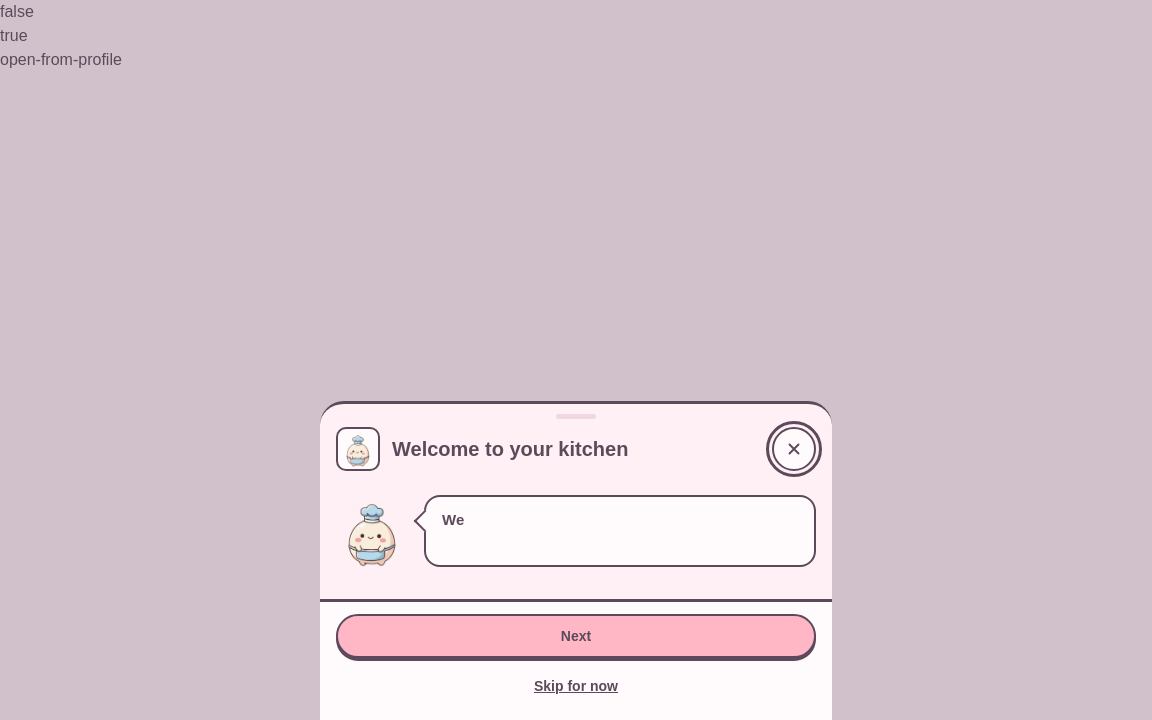
Scenario: the Bubbly dialogue before the chips (#915) › tap to continue steps through the lines, then shows the chips
Expected: the dialog with test id "staples-step" is shown, [320,401,832,719]
Click the button "Next" at (576, 636), box [336,614,816,658]
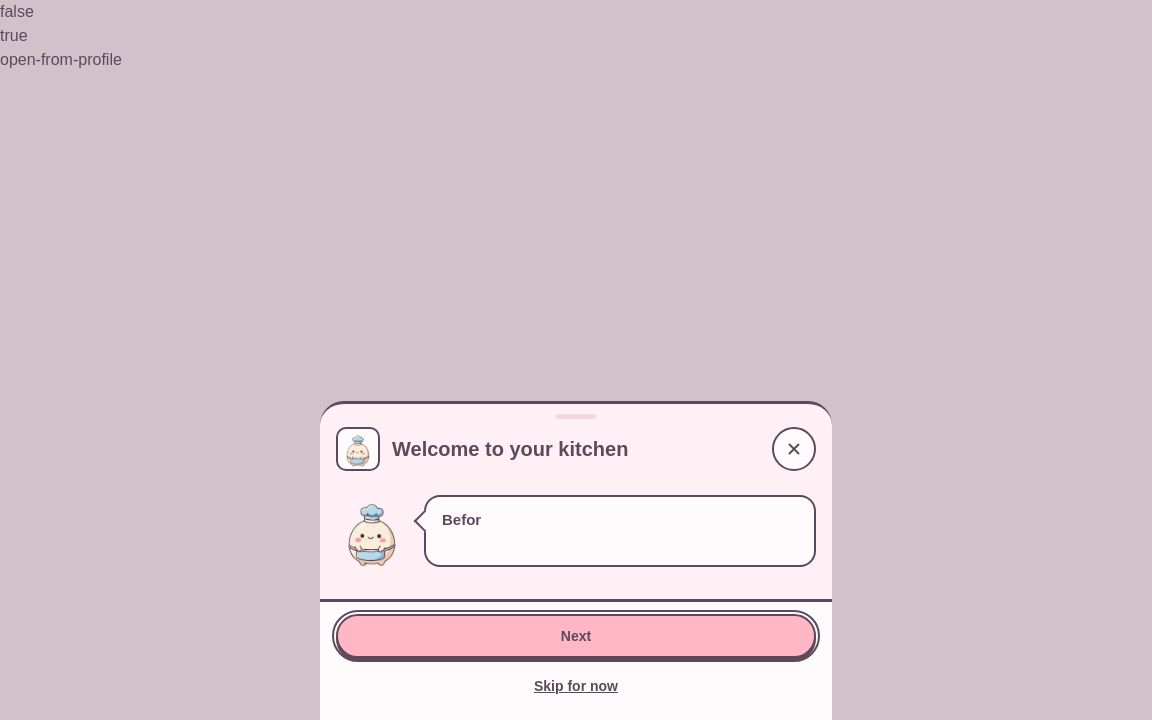
Expected: the element with test id "bubbles-says" does not show "Welcome to your kitchen! I'm Bubbly, and I'll help you get set up."
Click the button "Next" at (576, 636), box [336,614,816,658]
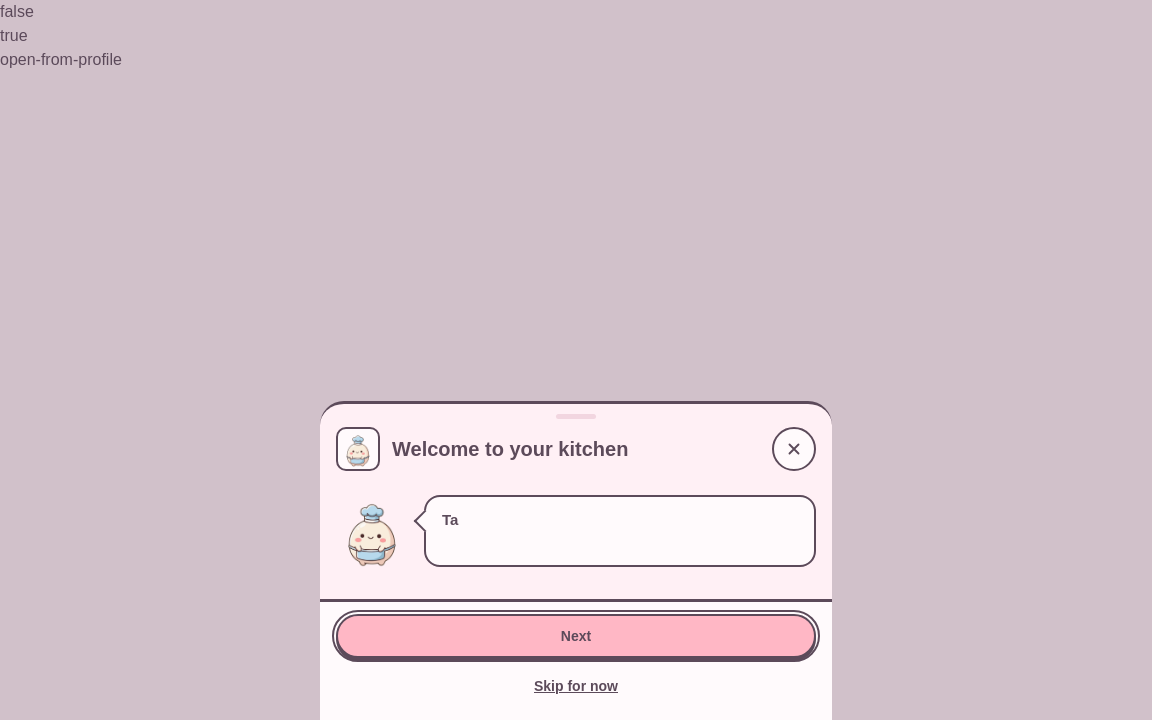
Click the button "Next" at (576, 636), box [336,614,816,658]
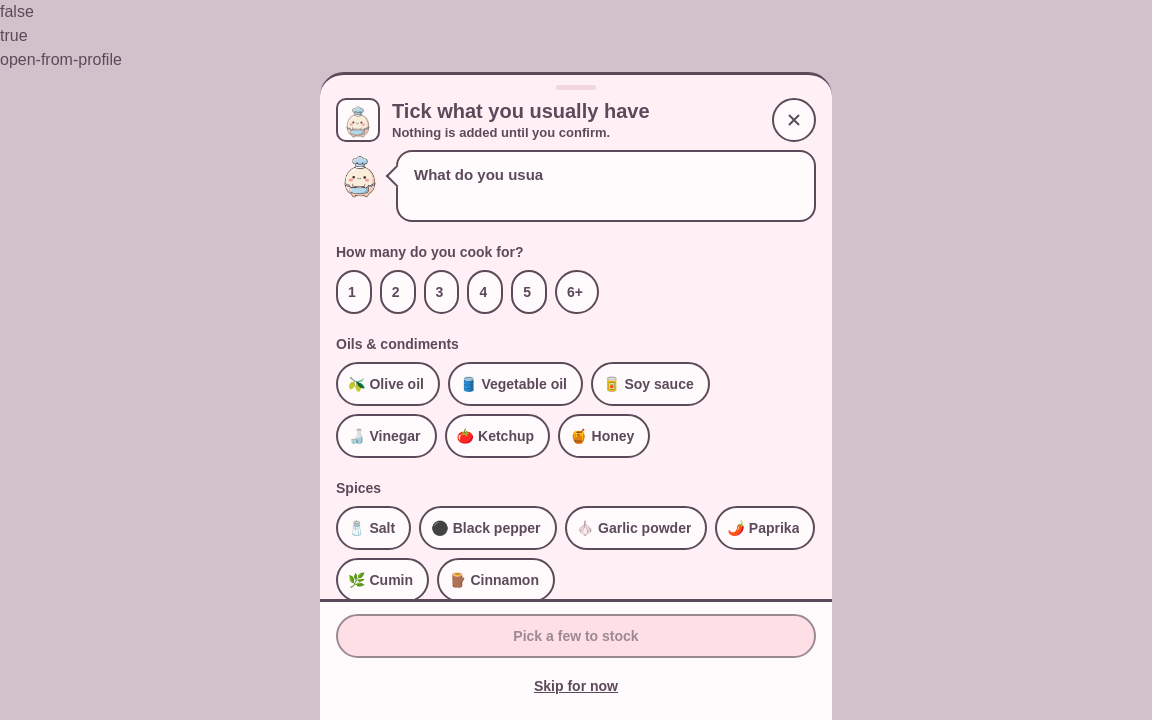
Now the button "🫒 Olive oil" is shown, box [336,362,440,406]
Now the dialog "Tick what you usually have" is shown, box [320,72,832,719]
